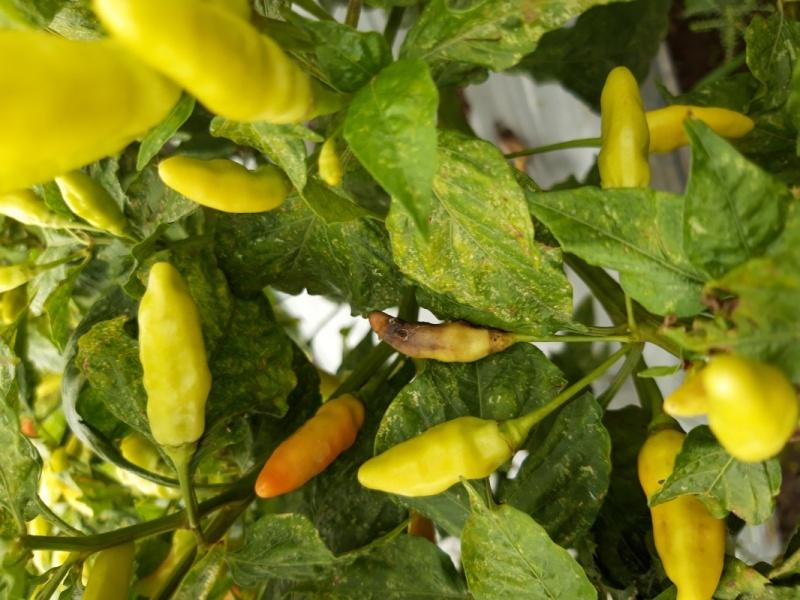cabai_normal: (91, 1, 309, 122), (641, 429, 722, 600), (140, 265, 213, 445), (359, 417, 514, 497), (257, 393, 362, 497), (705, 354, 798, 461), (159, 155, 289, 213), (600, 66, 649, 194), (639, 105, 755, 156), (61, 171, 129, 233)
lalat_buah: (366, 310, 492, 361)
